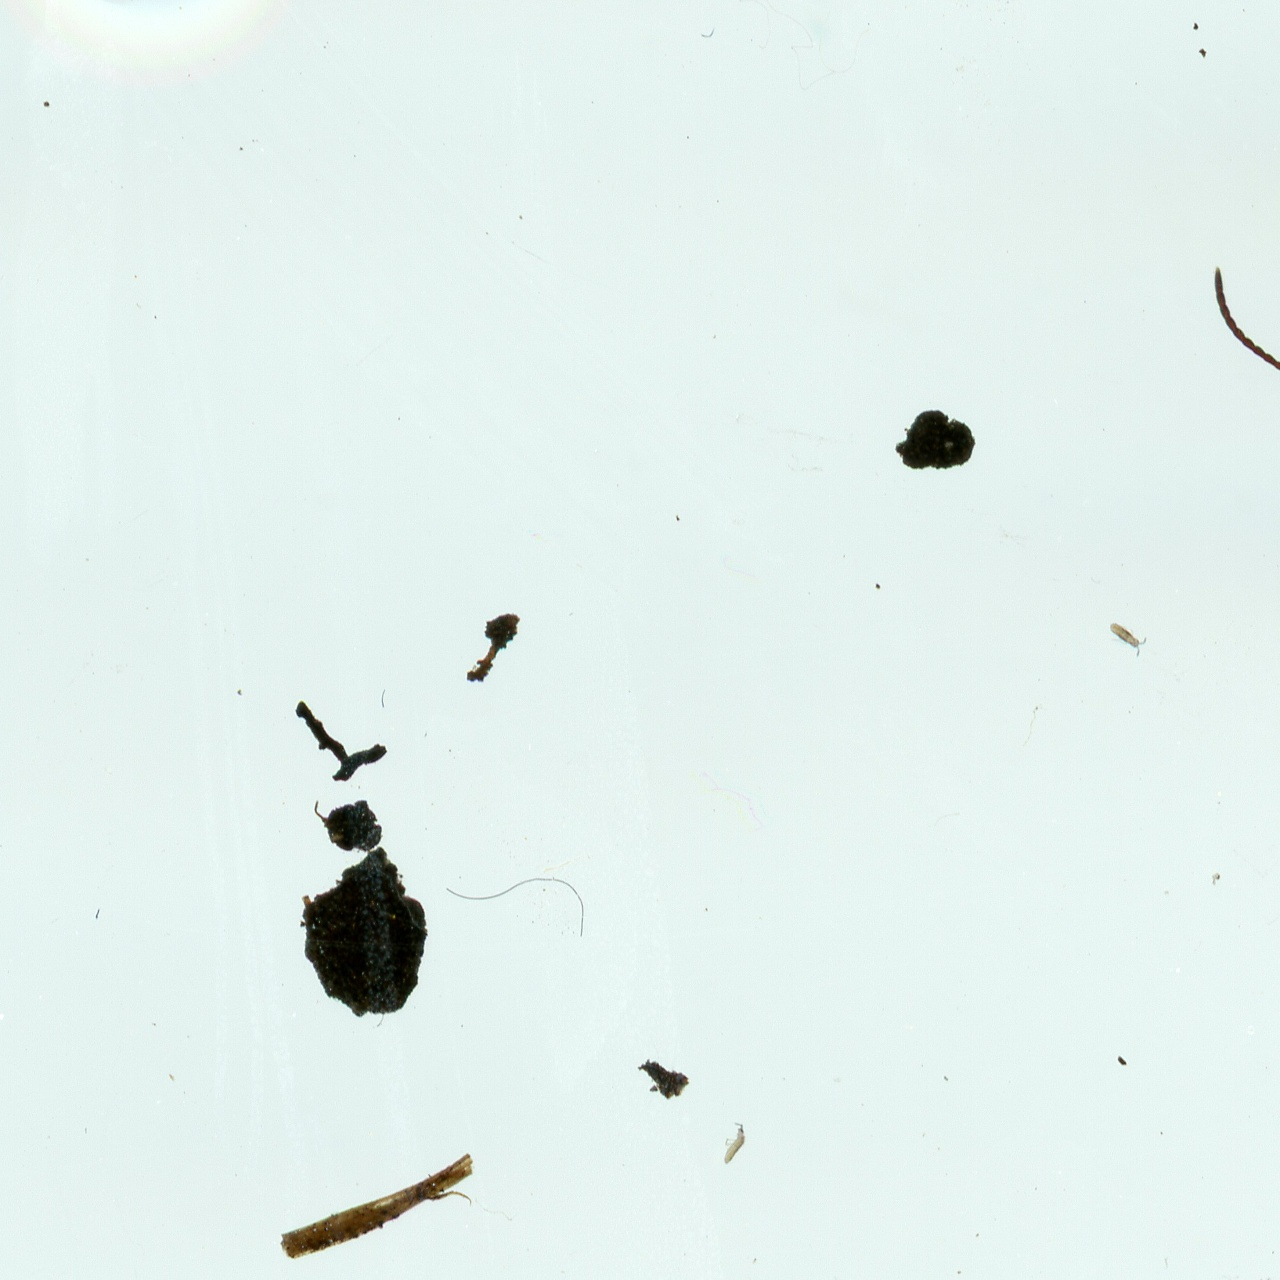arthropod: (1202, 0, 1280, 494), (1098, 611, 1156, 663), (711, 1117, 752, 1173)
